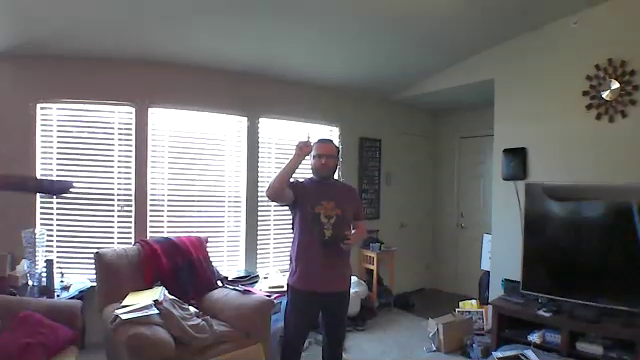up: (292, 125, 317, 159)
